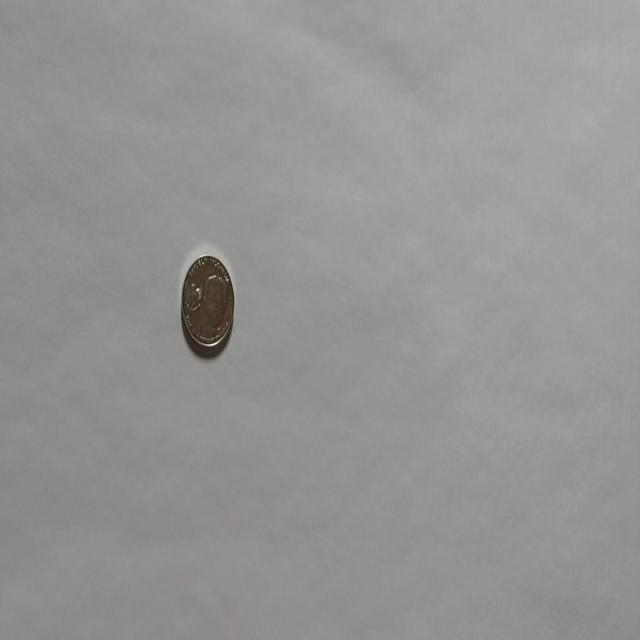seratus rupiah: (180, 252, 234, 354)
